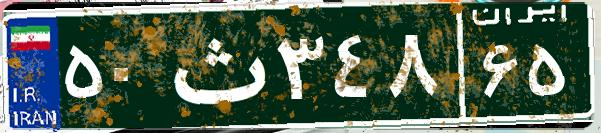0: (110, 28, 158, 105)
3: (273, 28, 330, 110)
4: (330, 28, 385, 110)
5: (57, 26, 110, 107), (525, 38, 570, 115)
6: (475, 38, 525, 113)
8: (385, 28, 445, 110)
ث: (158, 15, 273, 115)
